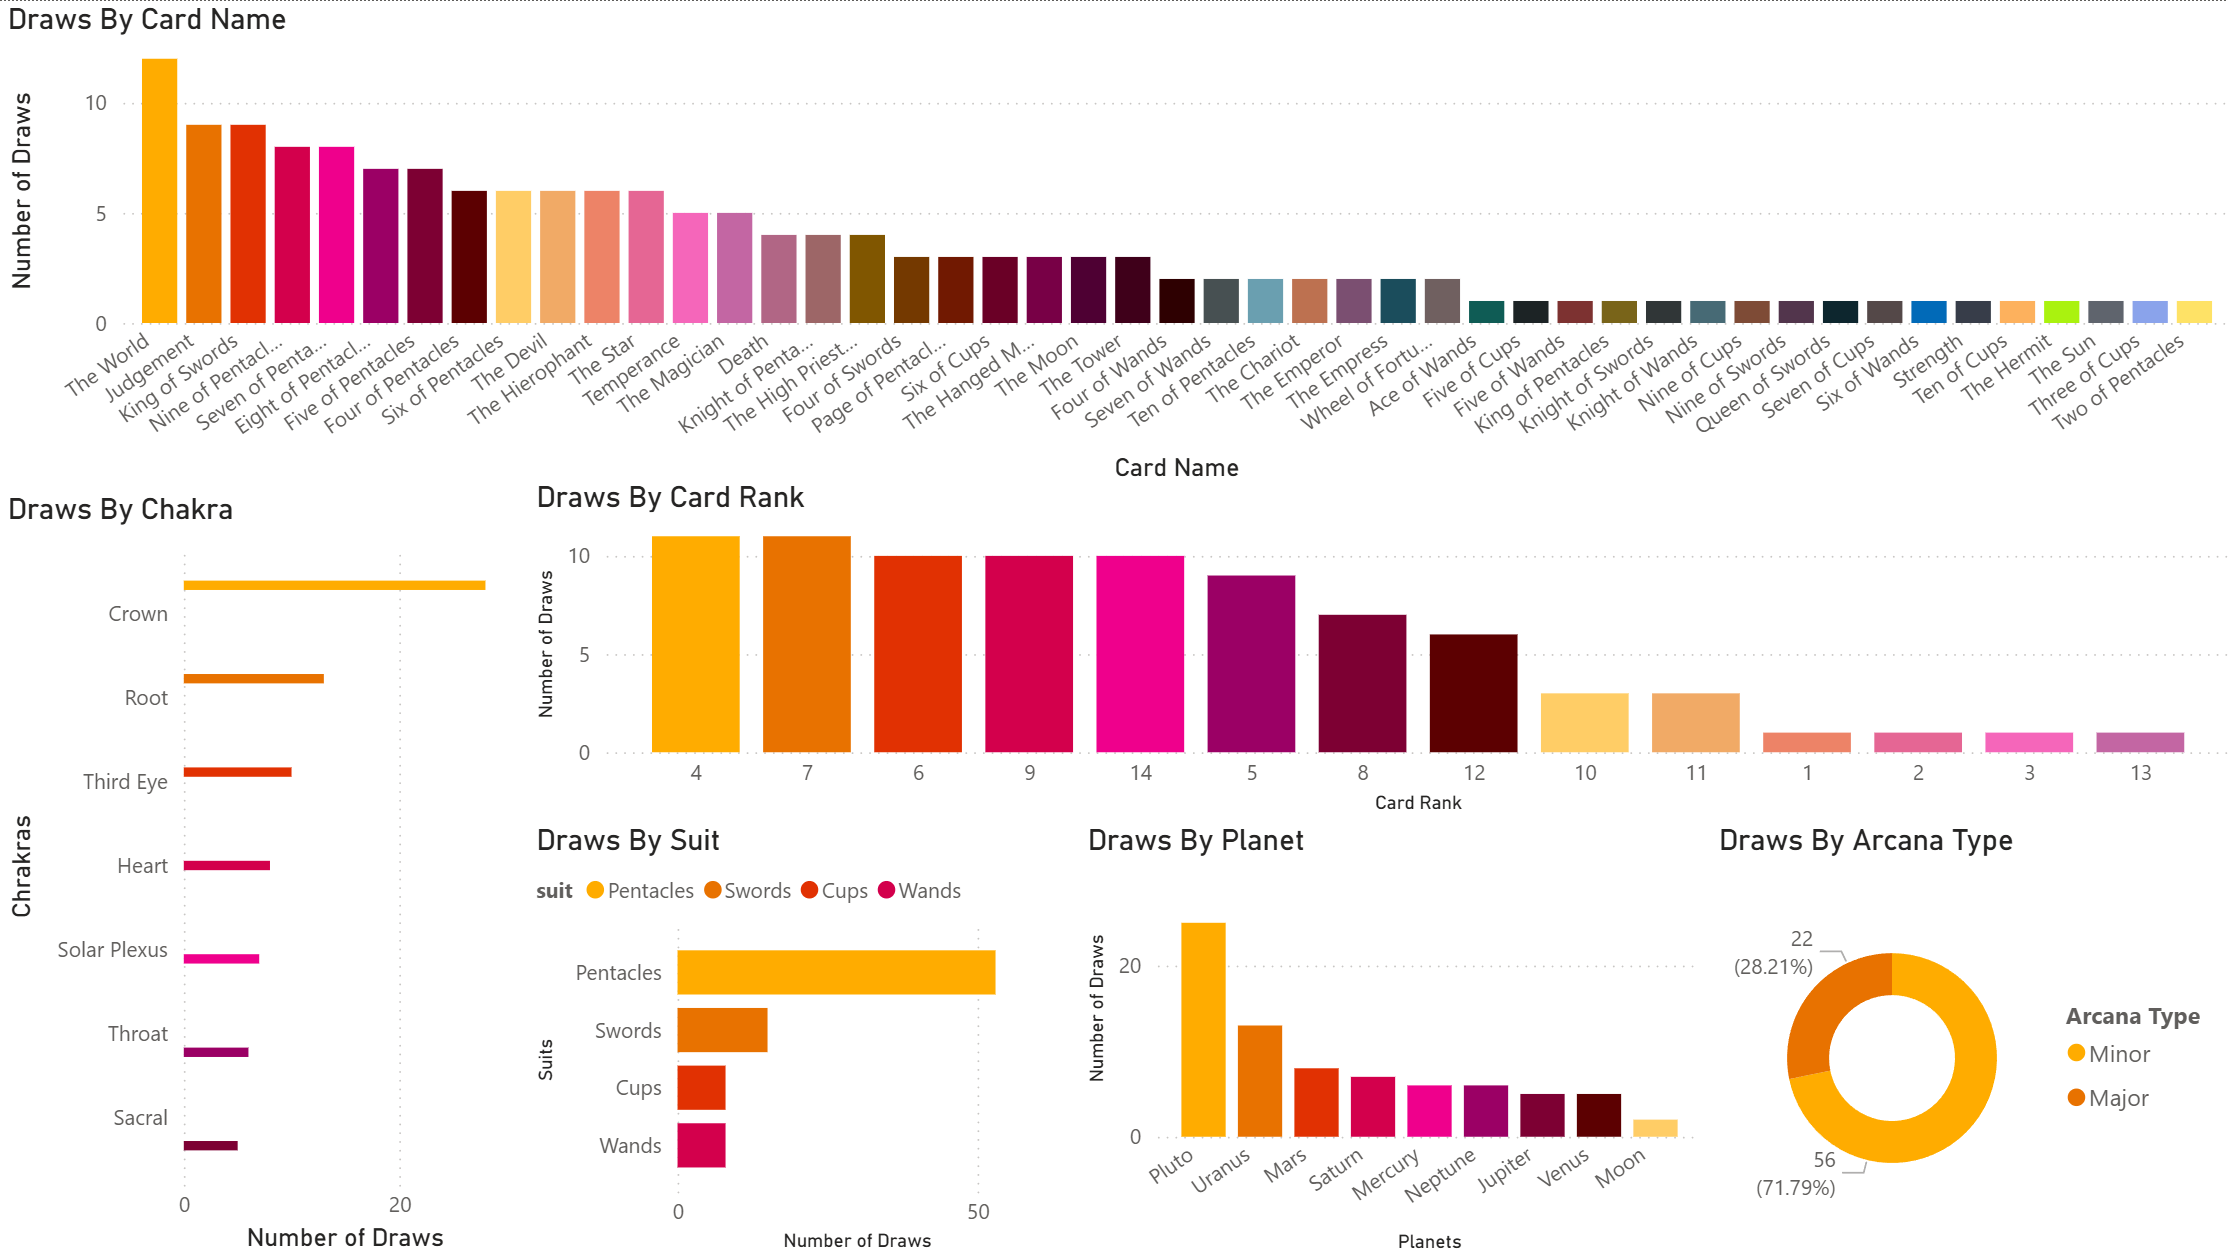

The page's visual inventory and layout, read from the dashboard file:
{"tool":"powerbi","page":{"name":"Frequency","canvas":[1280,720],"ordinal":0},"visuals":[{"type":"columnChart","title":"Draws By Card Name","fields":{"Category":["tarot_cards.card_name"],"Y":["CountNonNull(tarot_draws.card_id)"],"Series":["tarot_cards.card_name"]},"box":[0,0,1280,280],"z":0},{"type":"barChart","title":"Draws By Suit","fields":{"Y":["CountNonNull(tarot_draws.card_id)"],"Category":["suits.suit"],"Series":["suits.suit"]},"box":[302.5,469.5,303.5,250.5],"z":1000},{"type":"columnChart","title":"Draws By Card Rank","fields":{"Category":["tarot_cards.card_rank"],"Y":["CountNonNull(tarot_draws.card_id)"],"Series":["tarot_cards.card_rank"]},"box":[302.1,272.9,977.9,196.4],"z":2000},{"type":"clusteredBarChart","title":"Draws By Chakra","fields":{"Category":["chakras.chakra"],"Y":["CountNonNull(tarot_draws.card_id)"],"Series":["chakras.chakra"]},"box":[0,280.1,302.5,440],"z":3000},{"type":"columnChart","title":"Draws By Planet","fields":{"Category":["planets.planet"],"Y":["CountNonNull(tarot_draws.card_id)"],"Series":["planets.planet"]},"box":[617.1,469.3,360.7,250.7],"z":4000},{"type":"donutChart","title":"Draws By Arcana Type","fields":{"Category":["tarot_cards.arcana_type"],"Y":["CountNonNull(tarot_cards.arcana_type)"]},"box":[977.9,469.3,302.1,250.7],"z":5000}]}

Visuals, with their boxes in screenshot pixels (x1, y1, x2, y2), scaled from the page's 1280x720 canvas onto the 2228x1252 screenshot:
"Draws By Card Name" columnChart: 0,0,2227,487
"Draws By Suit" barChart: 527,816,1055,1251
"Draws By Card Rank" columnChart: 526,475,2227,816
"Draws By Chakra" clusteredBarChart: 0,487,527,1251
"Draws By Planet" columnChart: 1074,816,1702,1251
"Draws By Arcana Type" donutChart: 1702,816,2227,1251
